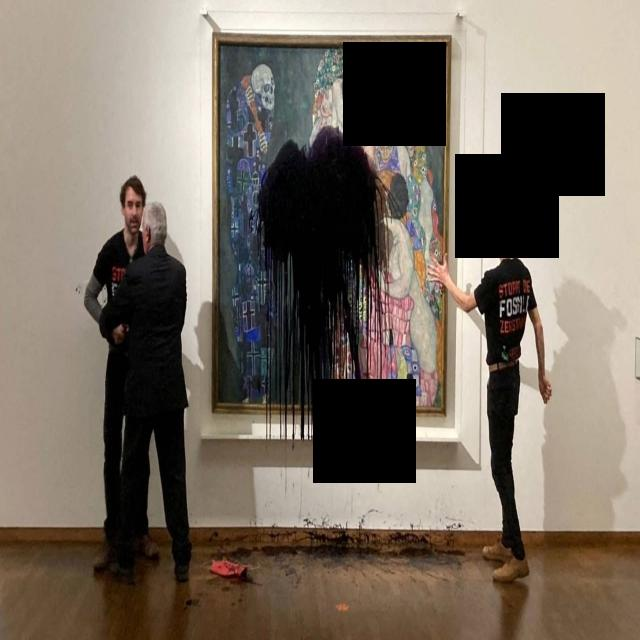Tablo: (215, 38, 447, 410)
